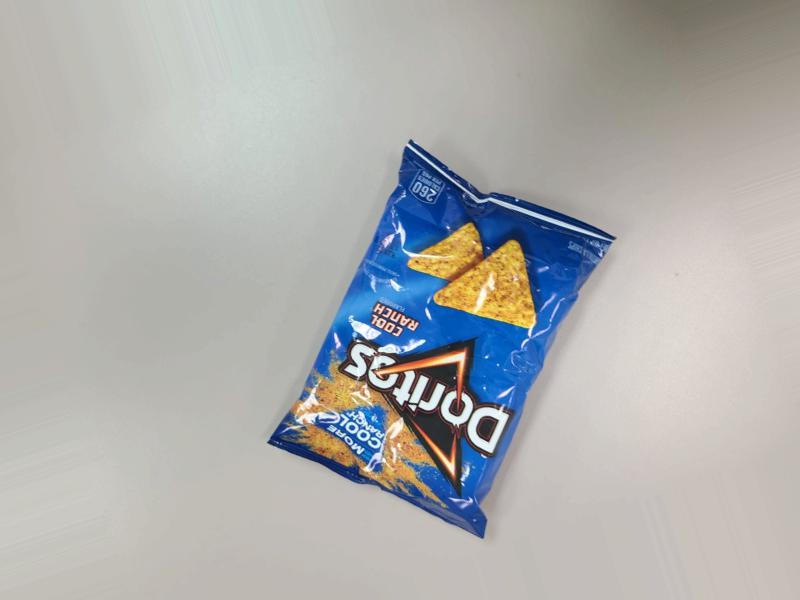doritos: (253, 125, 648, 554)
